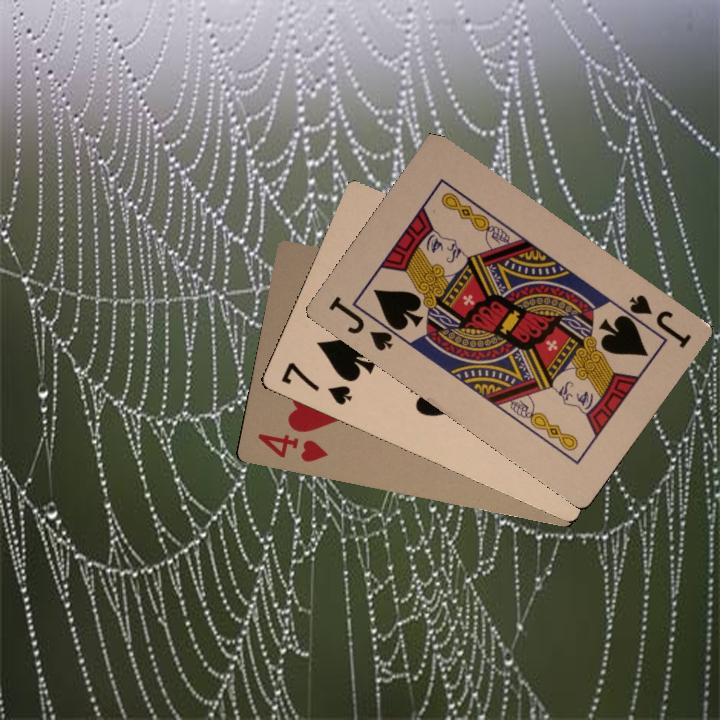4h: (253, 429, 330, 465)
7s: (277, 358, 355, 408)
Js: (615, 290, 694, 352), (324, 292, 401, 354)
